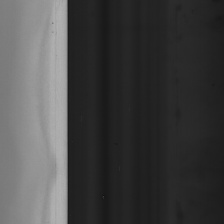inclusion: (51, 20, 54, 35)
